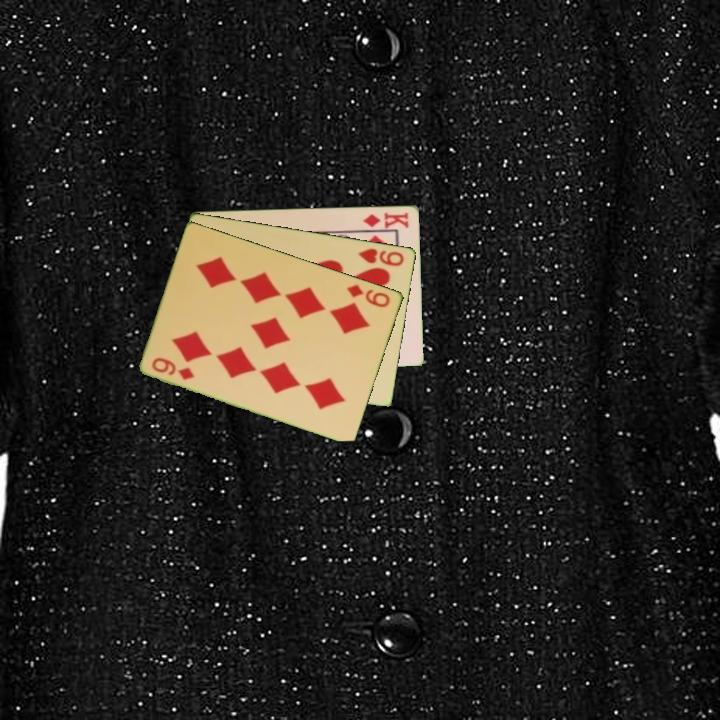9d: (343, 281, 393, 310), (149, 354, 198, 383)
9h: (355, 244, 407, 269)
Kd: (360, 208, 411, 231)
